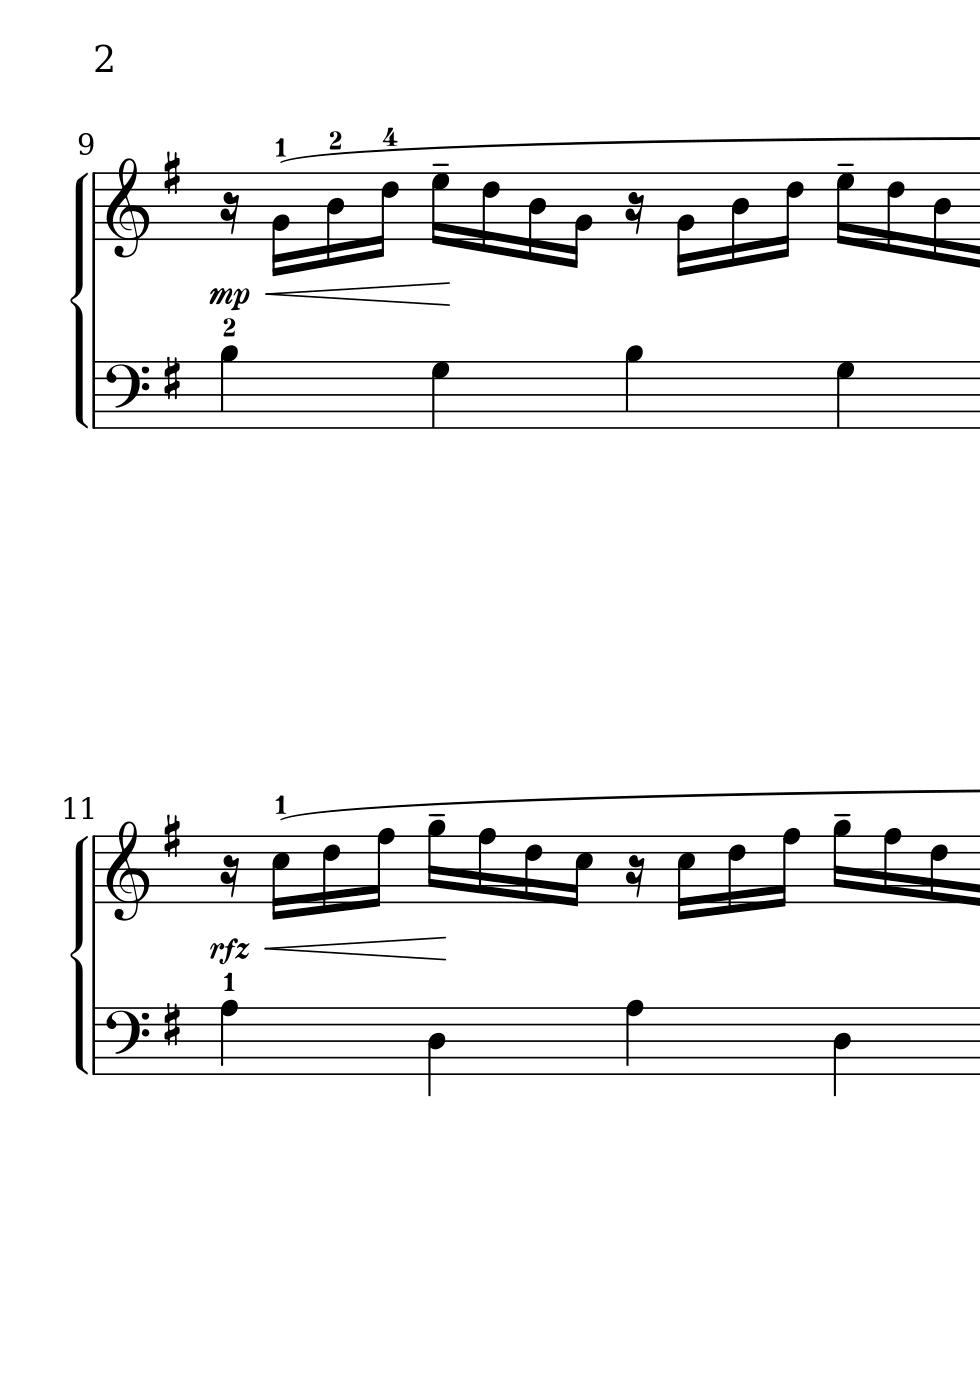1: (78, 795, 95, 823), (62, 794, 77, 823), (274, 135, 288, 161), (272, 793, 287, 817)
16_2: (565, 170, 592, 269), (675, 170, 696, 276), (270, 170, 291, 275)
16_4: (728, 170, 750, 269), (930, 171, 952, 265), (323, 172, 345, 269), (526, 171, 547, 264)
16_5: (565, 834, 594, 909), (268, 834, 291, 922), (673, 834, 696, 922)
16_6: (773, 169, 804, 260), (368, 170, 399, 259), (883, 169, 906, 256), (320, 834, 342, 915), (480, 169, 500, 256), (727, 831, 746, 916), (522, 834, 543, 905), (928, 834, 949, 905)
16_7: (833, 169, 854, 249), (428, 170, 450, 248)
16_8: (365, 828, 395, 910), (770, 827, 800, 909), (476, 827, 497, 906), (881, 826, 902, 905)
16_9: (424, 819, 445, 906), (830, 818, 850, 906)
2: (92, 43, 113, 74), (220, 316, 237, 340), (326, 129, 345, 150)
4: (381, 125, 397, 148)
4_4: (832, 1006, 852, 1098), (426, 1007, 447, 1096)
4_7: (428, 359, 451, 429), (834, 359, 856, 429)
4_8: (623, 998, 644, 1076), (218, 998, 239, 1076)
4_9: (623, 343, 644, 429), (218, 343, 239, 429)
9: (78, 130, 94, 157)
Brace: (70, 168, 89, 428), (72, 832, 90, 1074)
Crescendo_hairpin: (265, 281, 449, 305), (266, 936, 447, 961)
Fclef: (102, 1005, 150, 1076), (102, 359, 150, 429)
Gclef: (103, 818, 151, 923), (104, 156, 151, 259)
Rests16: (624, 853, 646, 900), (624, 190, 646, 236), (218, 191, 241, 236), (218, 853, 240, 900)
Sharp: (160, 150, 183, 198), (161, 355, 185, 404), (161, 1001, 183, 1050), (161, 813, 182, 860)
Single_barline: (87, 836, 102, 903), (88, 172, 102, 240), (88, 362, 102, 429), (88, 1008, 102, 1075)
mp: (206, 284, 252, 313)
rfz: (203, 935, 249, 970)
